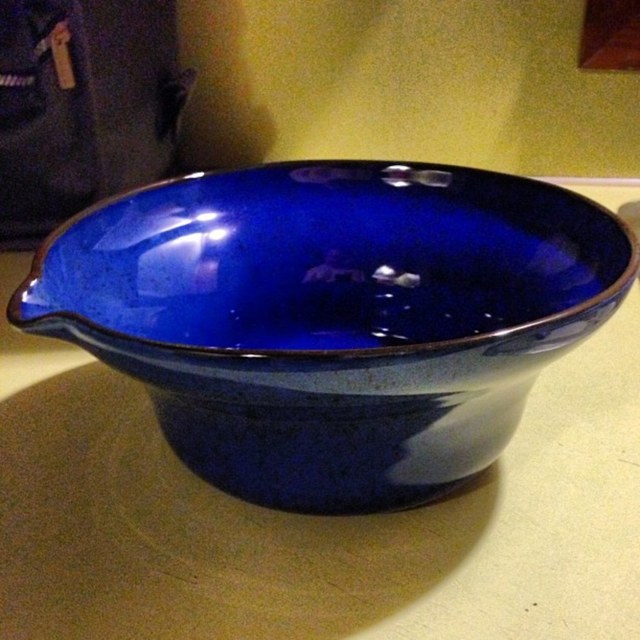bowl: (5, 159, 640, 518)
